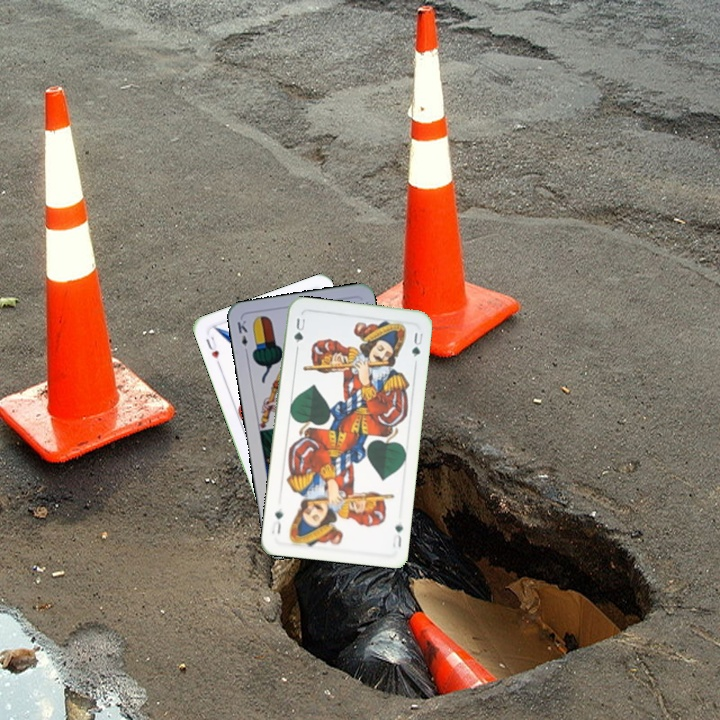EK: (233, 316, 251, 357)
GU: (290, 314, 307, 345), (388, 520, 405, 551)
HU: (202, 332, 223, 369)
